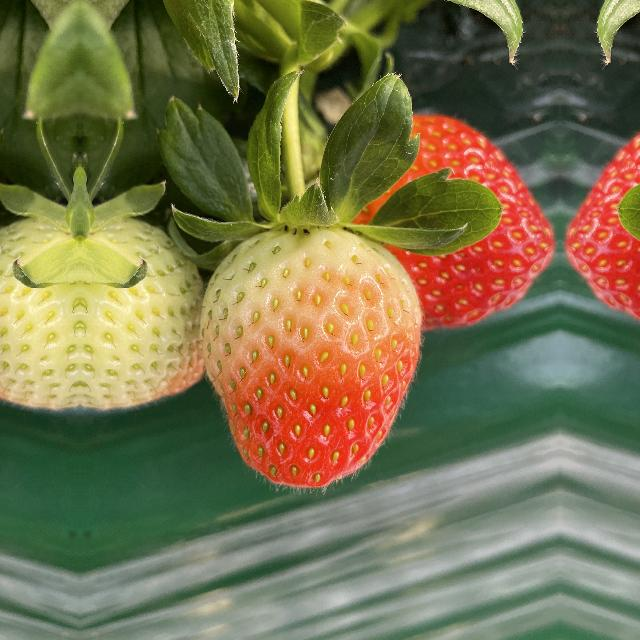Health_100: (355, 108, 559, 334), (561, 107, 640, 334)
Health_25: (80, 212, 212, 414), (0, 211, 80, 414)
Health_75: (184, 210, 430, 496)
